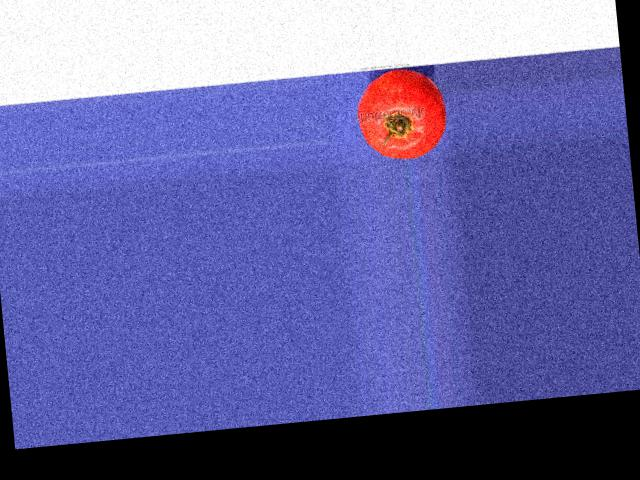tomato: (354, 66, 450, 162)
